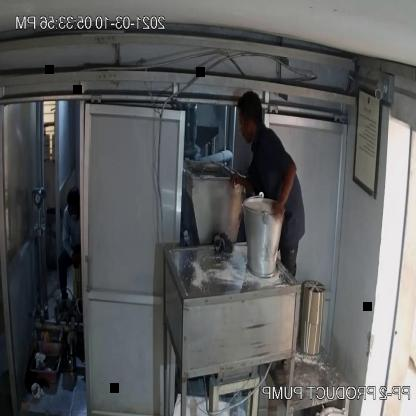no_glove: (262, 156, 302, 232), (230, 169, 254, 192)
